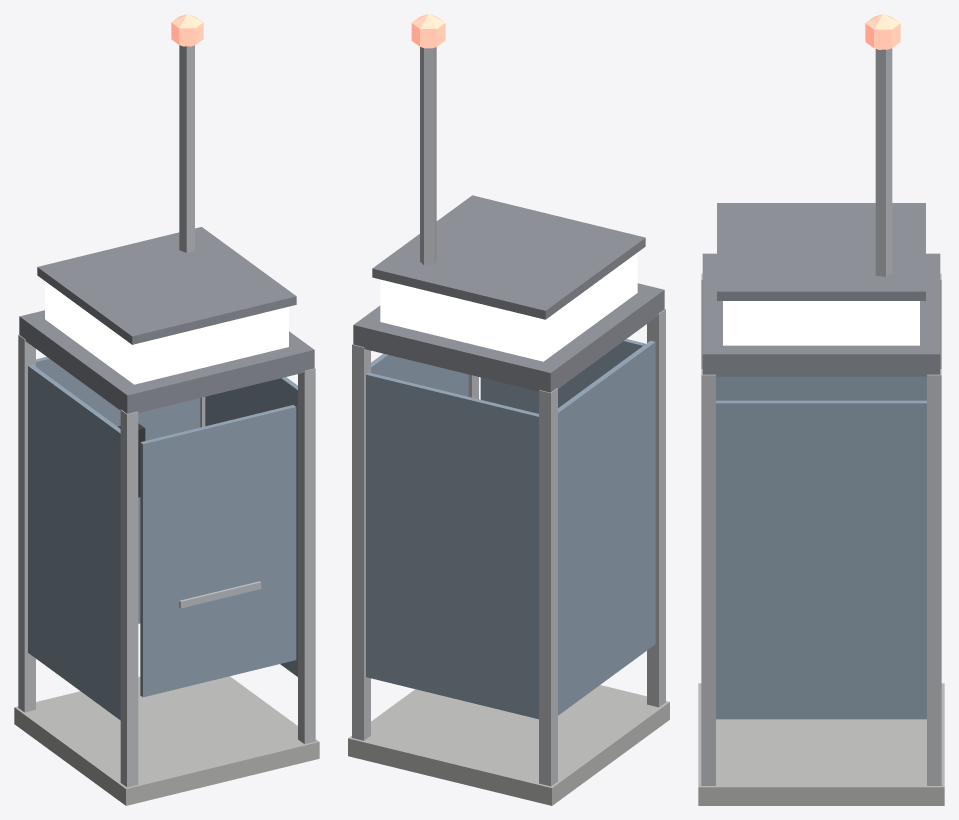
File: phone_booth.glb
3 views of the same model, side by side, from view 1: azimuth 30°, elevation 25°; view 2: azimuth 150°, elevation 25°; view 3: azimuth 270°, elevation 25° (orthographic). The views are drawn at different scales.
Visible parts, largest first — view 1: phone_booth; view 2: phone_booth; view 3: phone_booth.
Part boxes in pixels (box(x1,y1,x2,y2)): phone_booth: box(14, 14, 319, 805); phone_booth: box(348, 14, 669, 805); phone_booth: box(698, 14, 944, 805).
Size of the model in its own units: 1.2 by 4.12 by 1.2.
